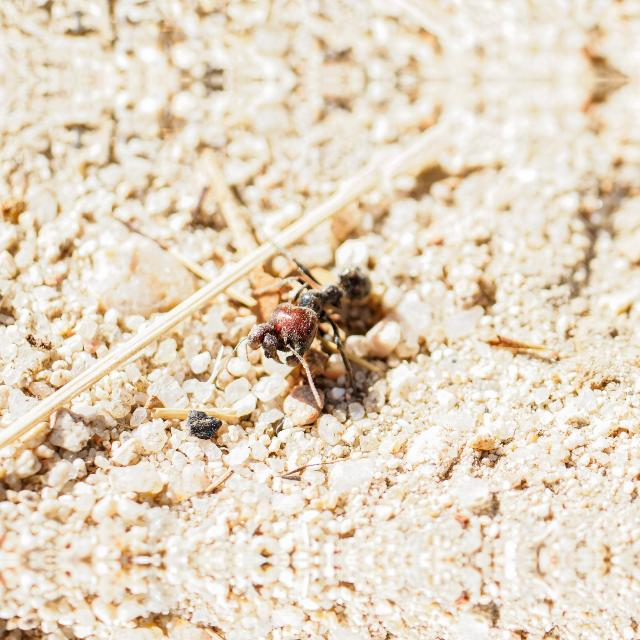Messor: (252, 244, 374, 374)
